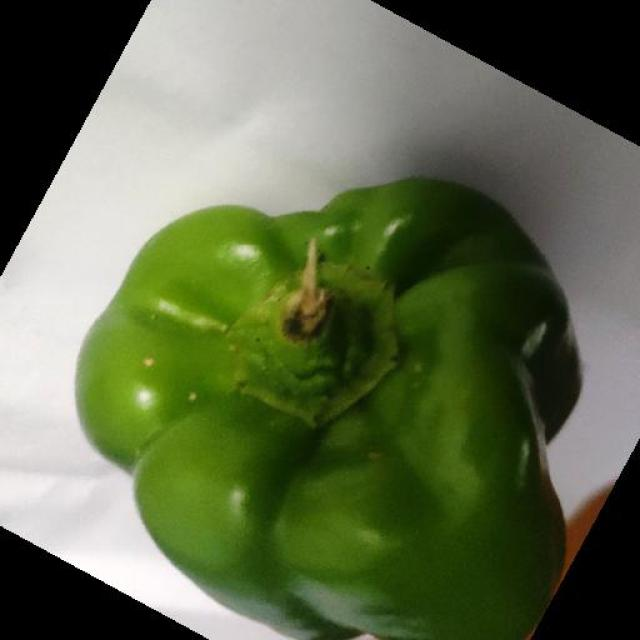Fresh_Capsicum: (71, 174, 586, 640)
